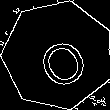O_NW: (26, 23, 89, 87)
